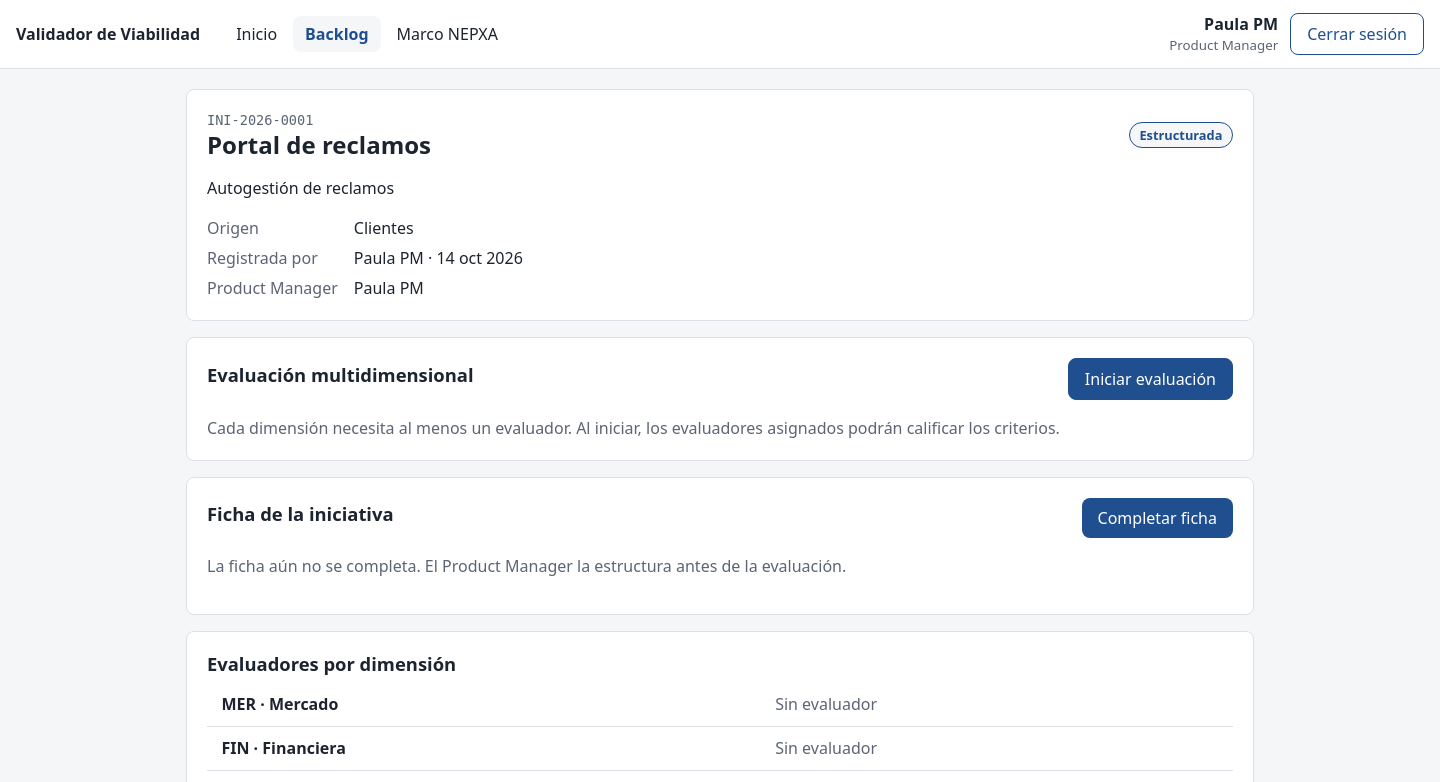
Scenario: iniciar la evaluación sin evaluadores muestra lo que falta
The image size is (1440, 782).
Click the button "Iniciar evaluación".
click(1150, 379)  # box [1068, 358, 1233, 400]
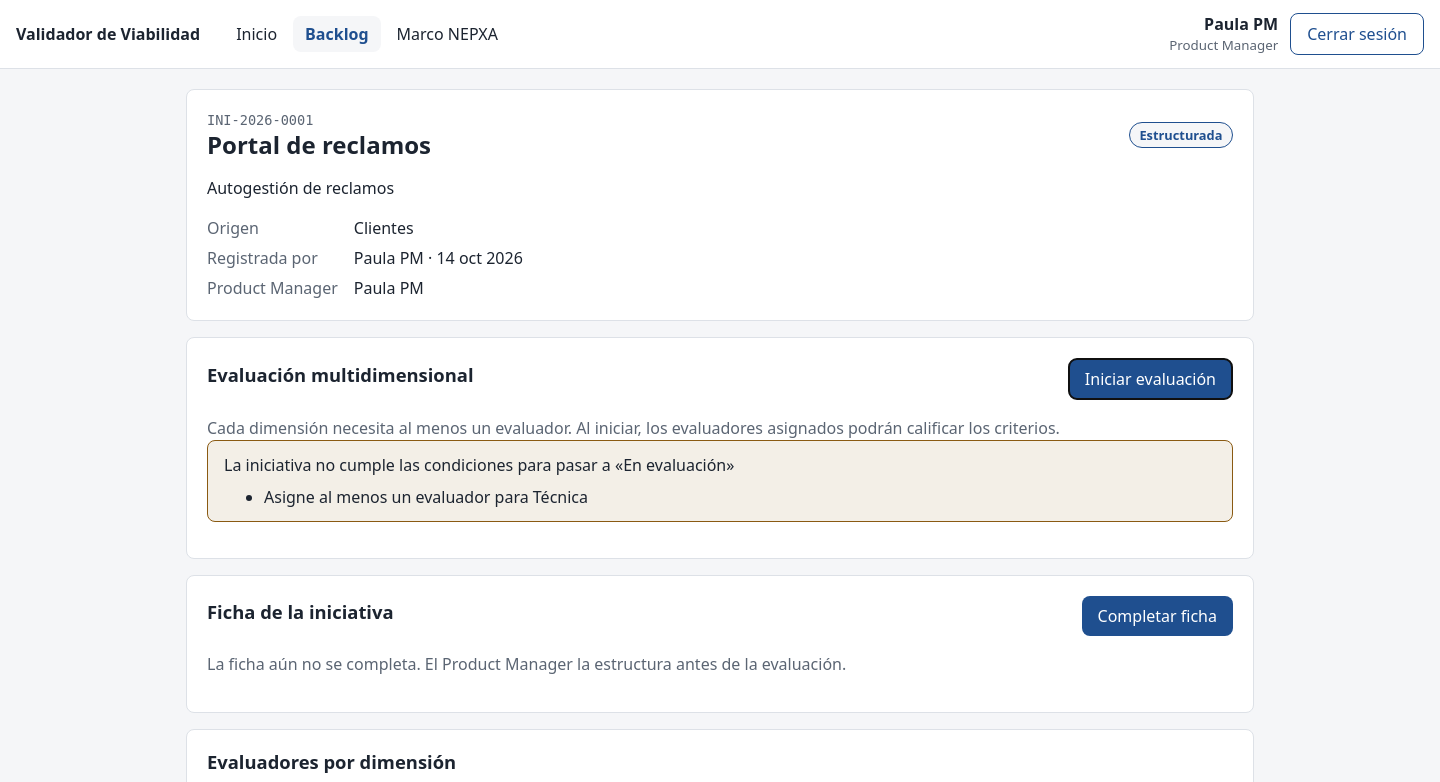
Now the message shows "Asigne al menos un evaluador para Técnica", box [264, 486, 588, 508]
